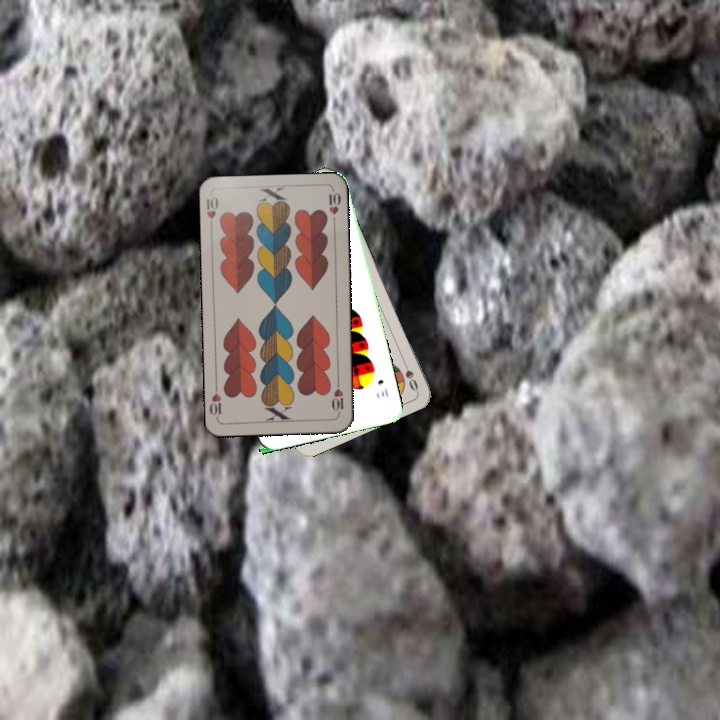H10: (202, 193, 221, 232), (329, 376, 346, 417)
S10: (374, 375, 391, 400)
SO: (398, 355, 421, 394)
